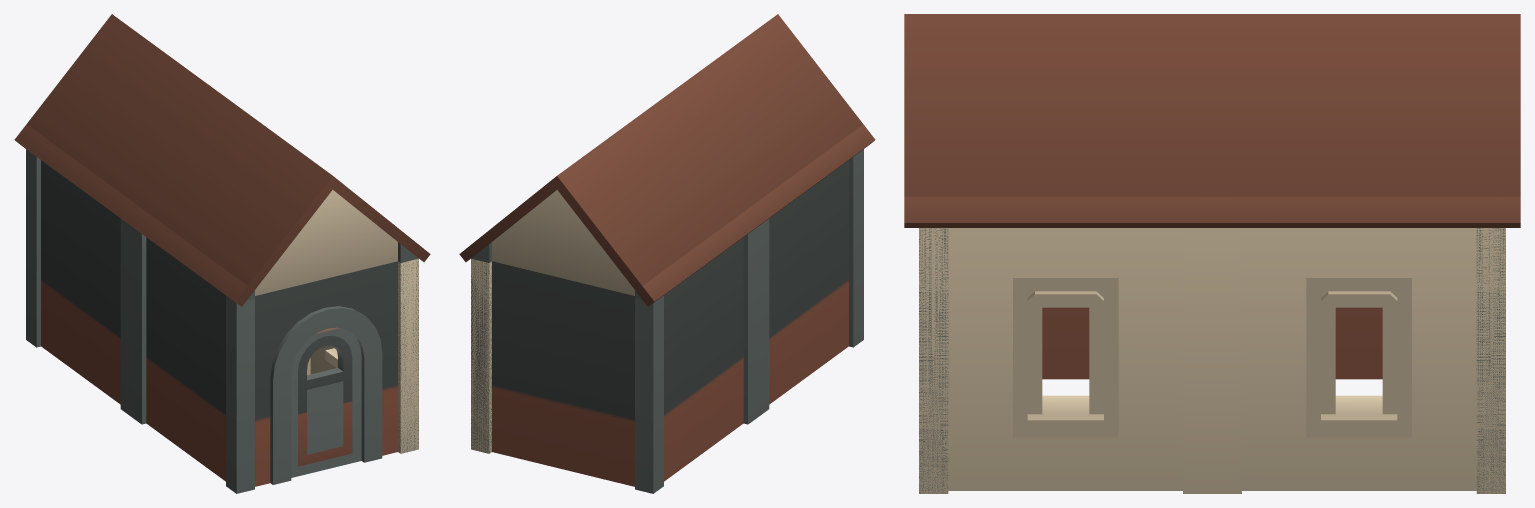
The model's file is home-long-ridge.glb.
3 views of the same model, side by side, from view 1: azimuth 30°, elevation 25°; view 2: azimuth 150°, elevation 25°; view 3: azimuth 270°, elevation 25° (orthographic). The views are drawn at different scales.
Parts seen in each view (by area): view 1: roof-gable (×2), wall-wood (×3), wall-wood-door, door, wall-wood-window-small; view 2: wall-wood (×3), roof-gable (×2), wall-wood-window-small, wall-wood-door; view 3: wall-wood-window-small (×2), roof-gable (×2), wall-wood (×3), wall-wood-door.
Part boxes in pixels (bbox=[...]): roof-gable (×2): bbox=[14, 14, 430, 306]; wall-wood (×3): bbox=[26, 149, 254, 493]; wall-wood-door: bbox=[226, 259, 418, 493]; door: bbox=[291, 327, 361, 477]; wall-wood-window-small: bbox=[307, 258, 418, 453]; wall-wood (×3): bbox=[471, 149, 863, 493]; roof-gable (×2): bbox=[459, 14, 875, 306]; wall-wood-window-small: bbox=[471, 258, 491, 453]; wall-wood-door: bbox=[849, 149, 863, 347]; wall-wood-window-small (×2): bbox=[919, 228, 1505, 493]; roof-gable (×2): bbox=[904, 14, 1520, 227]; wall-wood (×3): bbox=[1042, 228, 1505, 493]; wall-wood-door: bbox=[919, 228, 948, 493].
Bounding box in the file's own units: 1.09 × 1.57 × 2.1.
Materials: 1 (1 with a texture image).
